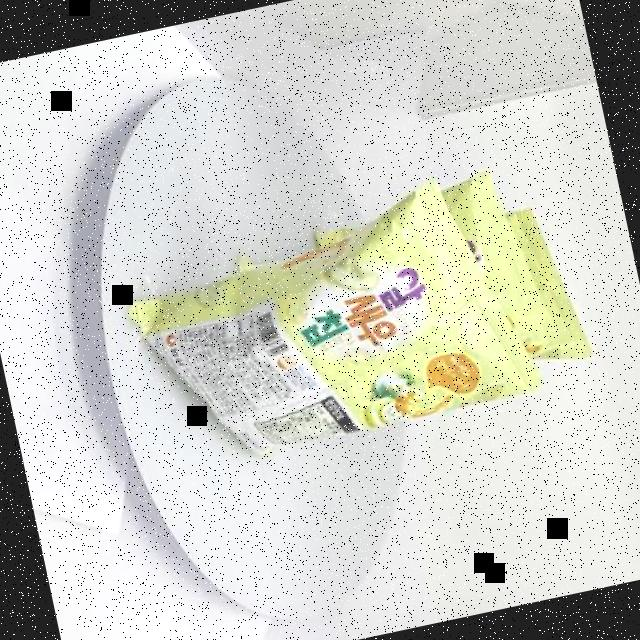snack_bag: (105, 134, 625, 506)
